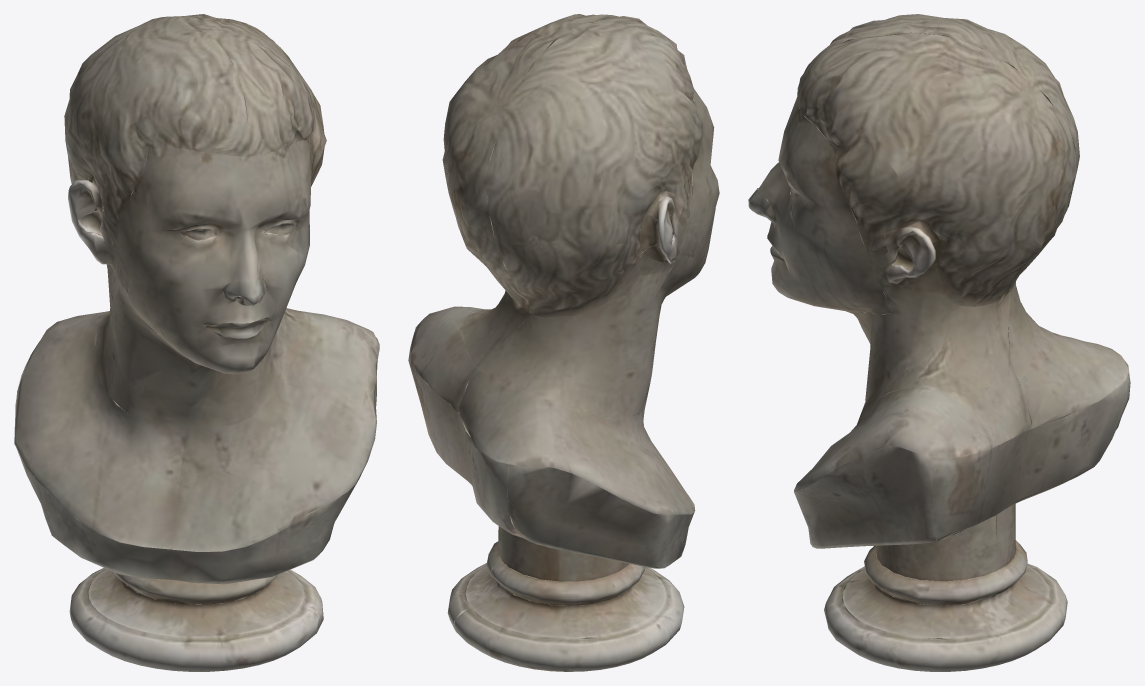
The model's file is ph_marble_bust_01.glb.
3 renders of one model, left to right at view 1: azimuth 30°, elevation 25°; view 2: azimuth 150°, elevation 25°; view 3: azimuth 270°, elevation 25°, orthographic. The views are drawn at different scales.
Parts seen in each view (by area): view 1: marble_bust_01; view 2: marble_bust_01; view 3: marble_bust_01.
Boxes of the visible parts, x1,y1,x2,y2 form: marble_bust_01: (14,14,379,671); marble_bust_01: (408,14,719,671); marble_bust_01: (748,14,1130,671).
Size of the model in its own units: 0.2716 by 0.5151 by 0.2996.
1 material, 1 textured.
